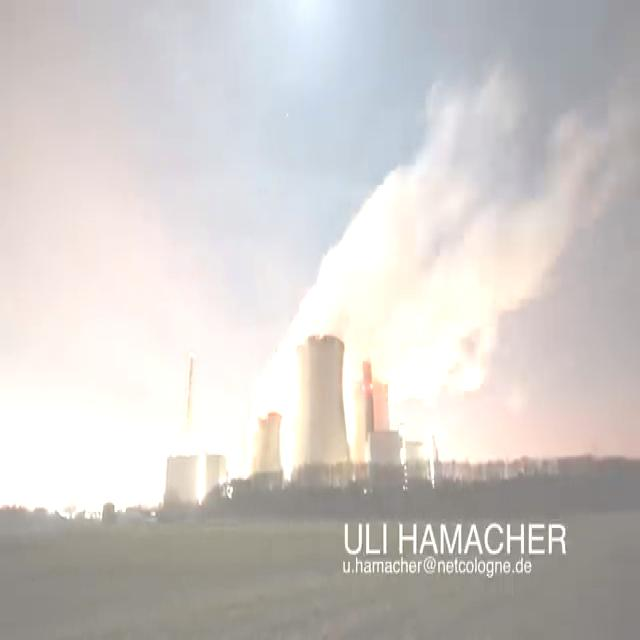smoke: (245, 130, 552, 476)
